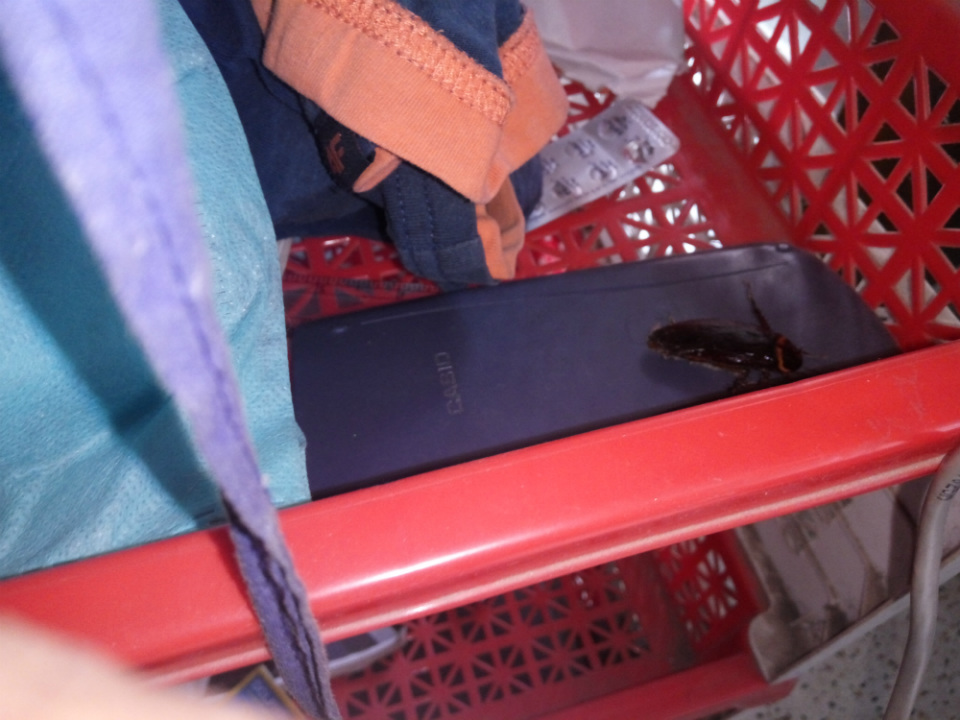cockroach: (648, 307, 830, 386)
